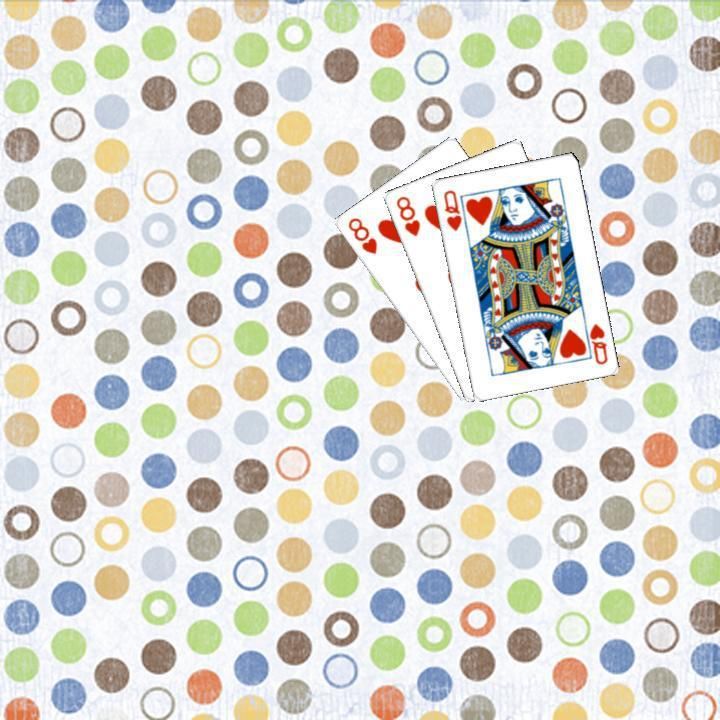8: (343, 213, 379, 256), (391, 191, 422, 238)
Q: (579, 315, 609, 366), (439, 185, 463, 233)
